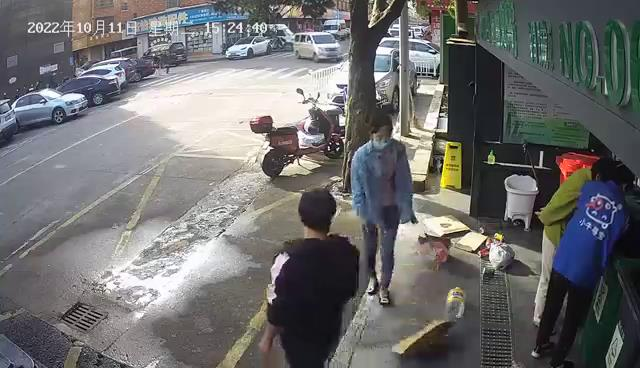garbage-bag: (488, 239, 516, 271)
lvzhipin: (482, 266, 496, 278), (477, 247, 490, 258), (493, 232, 505, 242)
person: (255, 186, 361, 368), (532, 157, 616, 333)
suliaozhipin: (446, 285, 467, 319)
worker: (529, 159, 631, 366), (350, 111, 418, 305)
zhizhipin: (390, 317, 455, 355), (420, 213, 472, 238), (420, 237, 449, 271), (455, 230, 488, 252)
